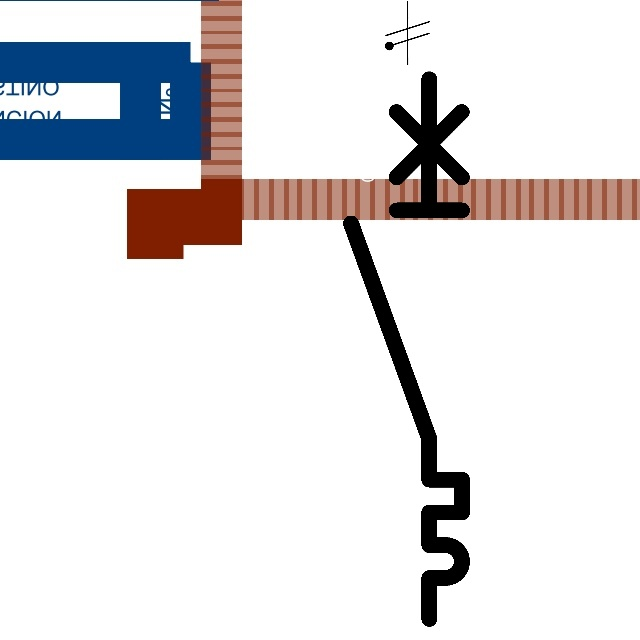interruptor_termomagnetico: (337, 65, 476, 633)
